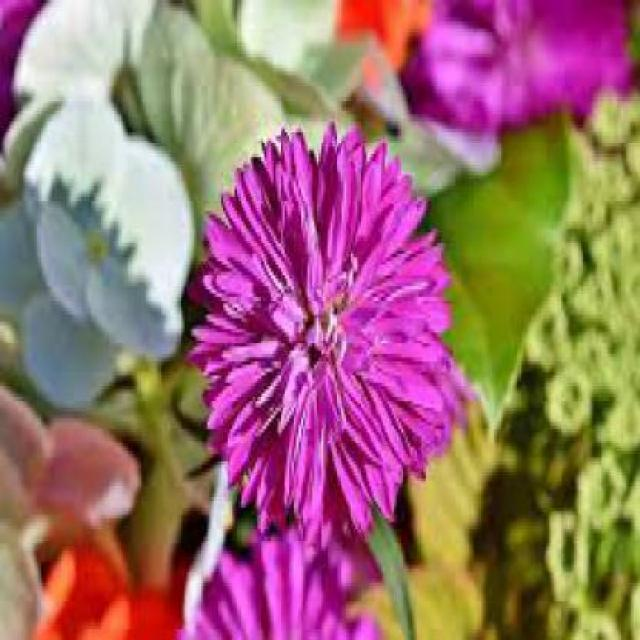Flower: (185, 122, 454, 543)
